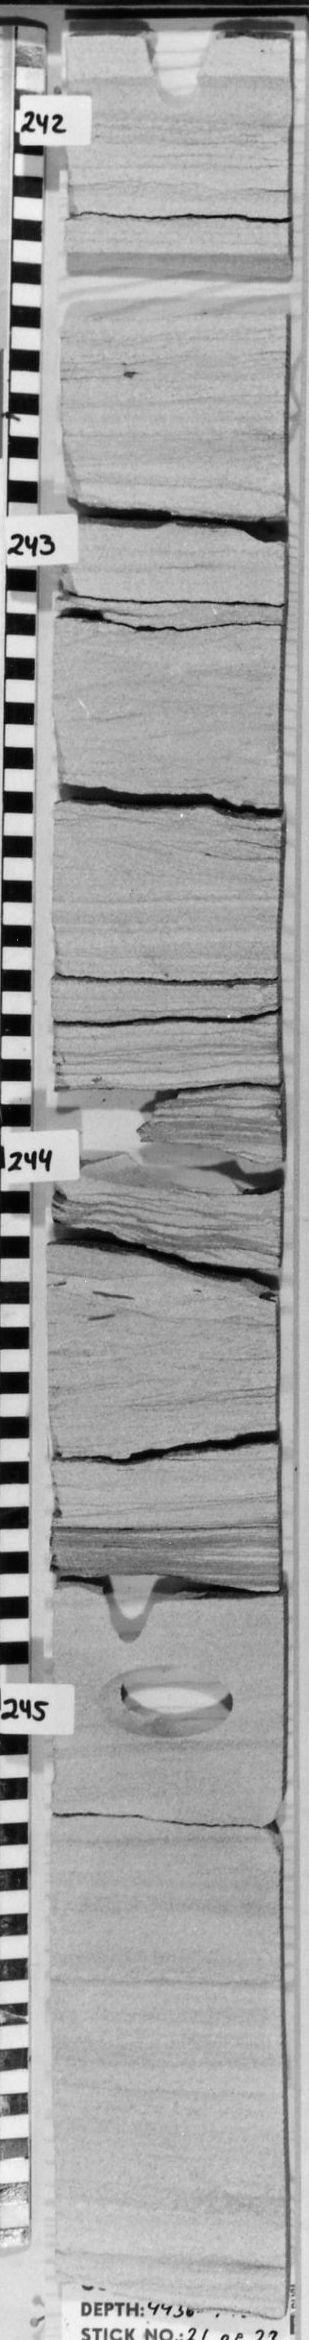hplug: (70, 240, 290, 328), (85, 1664, 249, 1746)
vplug: (134, 21, 222, 121), (96, 1565, 170, 1651)
